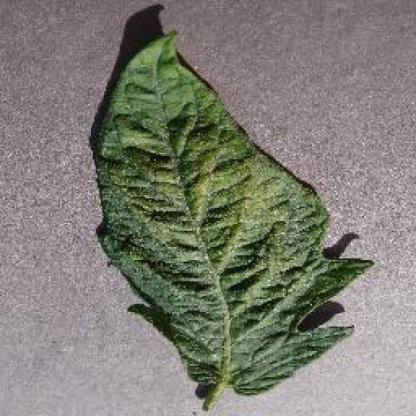Tomato_Spider_Mites: (98, 32, 371, 383)
